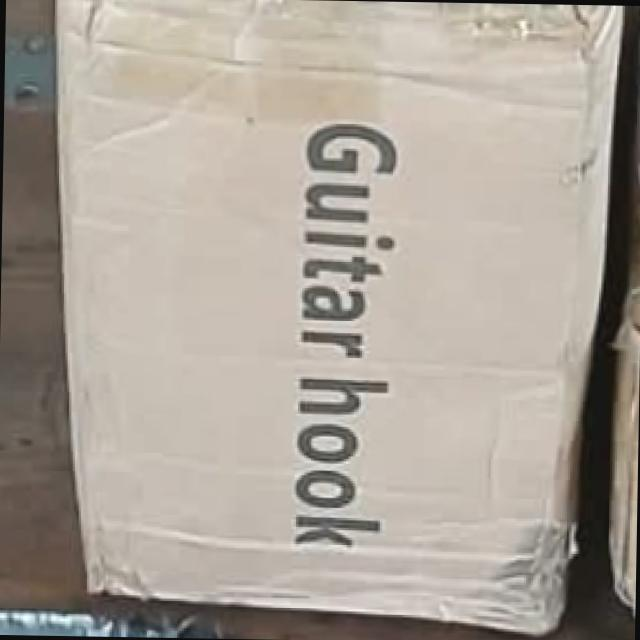carton_box: (29, 0, 622, 640)
package_damage: (522, 494, 610, 635), (454, 2, 627, 52)
